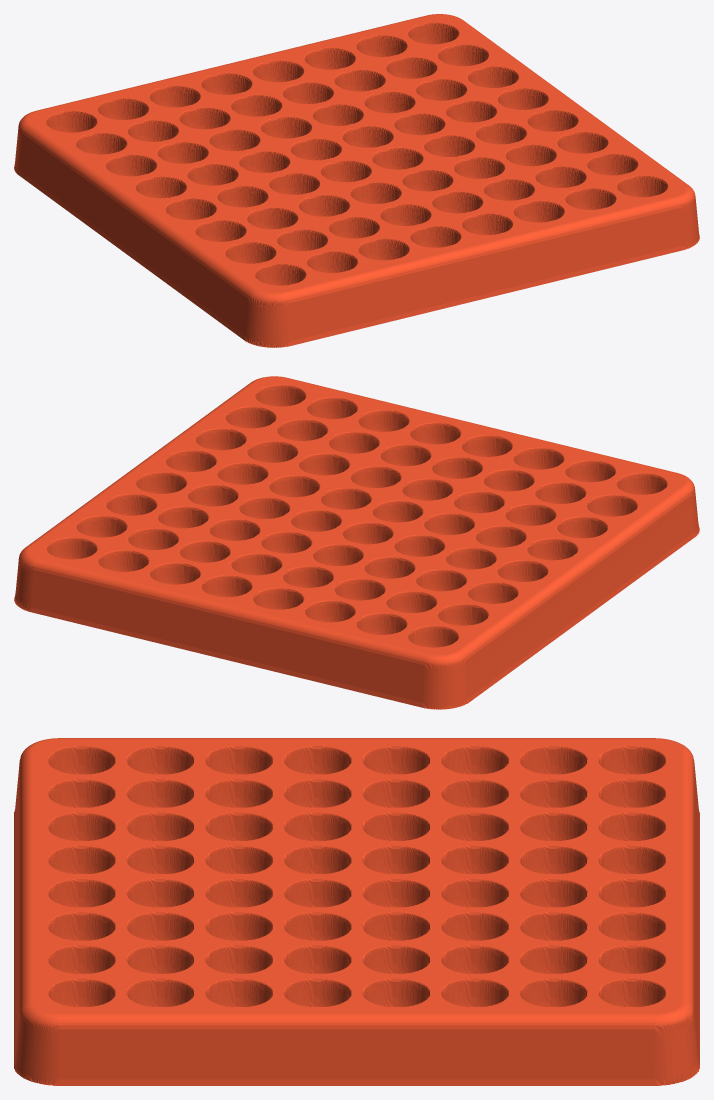
Rendered from mold.glb.
3 renders of one model, top to bottom at view 1: azimuth 30°, elevation 25°; view 2: azimuth 150°, elevation 25°; view 3: azimuth 270°, elevation 25°, orthographic. The views are drawn at different scales.
Parts seen in each view (by area): view 1: geometry_0; view 2: geometry_0; view 3: geometry_0.
Part boxes in pixels (bbox=[...]): geometry_0: bbox=[14, 14, 699, 347]; geometry_0: bbox=[14, 376, 699, 709]; geometry_0: bbox=[14, 738, 699, 1085].
Size of the model in its own units: 0.1355 by 0.014 by 0.1355.
